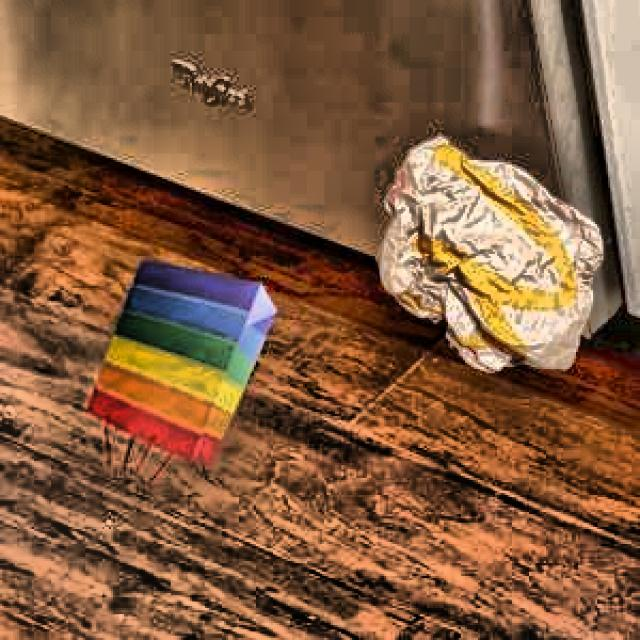Paper-bag: (356, 122, 621, 395), (82, 254, 281, 516)
